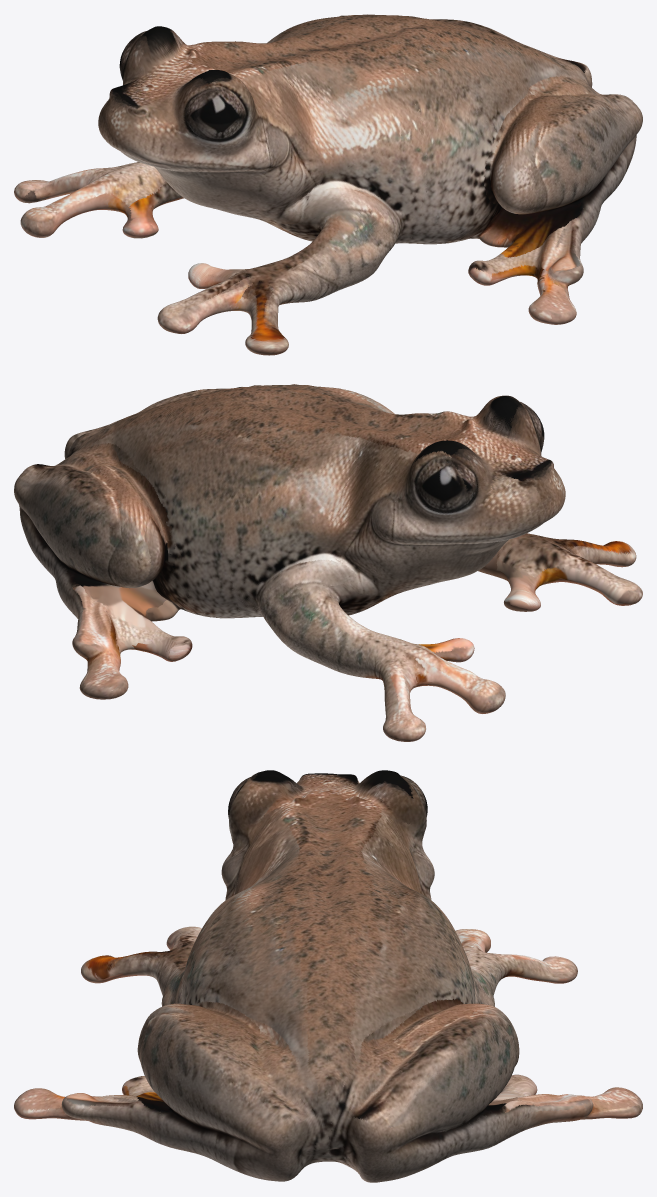
File: perons_tree_frog_v2.glb
3 views of the same model, one above another, from view 1: azimuth 30°, elevation 25°; view 2: azimuth 150°, elevation 25°; view 3: azimuth 270°, elevation 25° (orthographic). The views are drawn at different scales.
Visible parts, largest first — view 1: Object_4; view 2: Object_4; view 3: Object_4.
Boxes of the visible parts, x1,y1,x2,y2 form: Object_4: [14, 14, 642, 355]; Object_4: [14, 384, 642, 741]; Object_4: [14, 770, 642, 1182].
Size of the model in its own units: 0.9779 by 0.3946 by 0.9884.
Materials: 1 (1 with a texture image).
